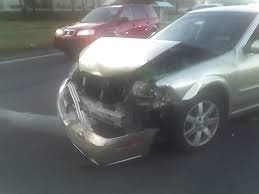Broken-glass: (131, 79, 166, 100)
Smashed: (54, 49, 177, 159)
